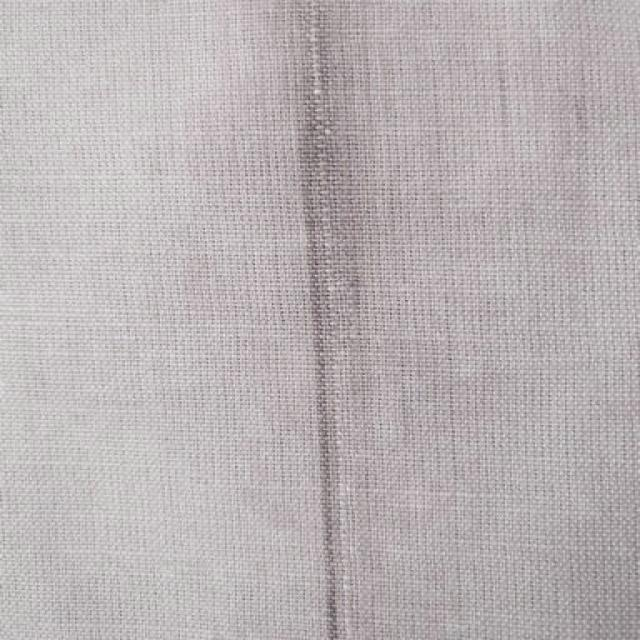Thread_other: (183, 13, 517, 640)
